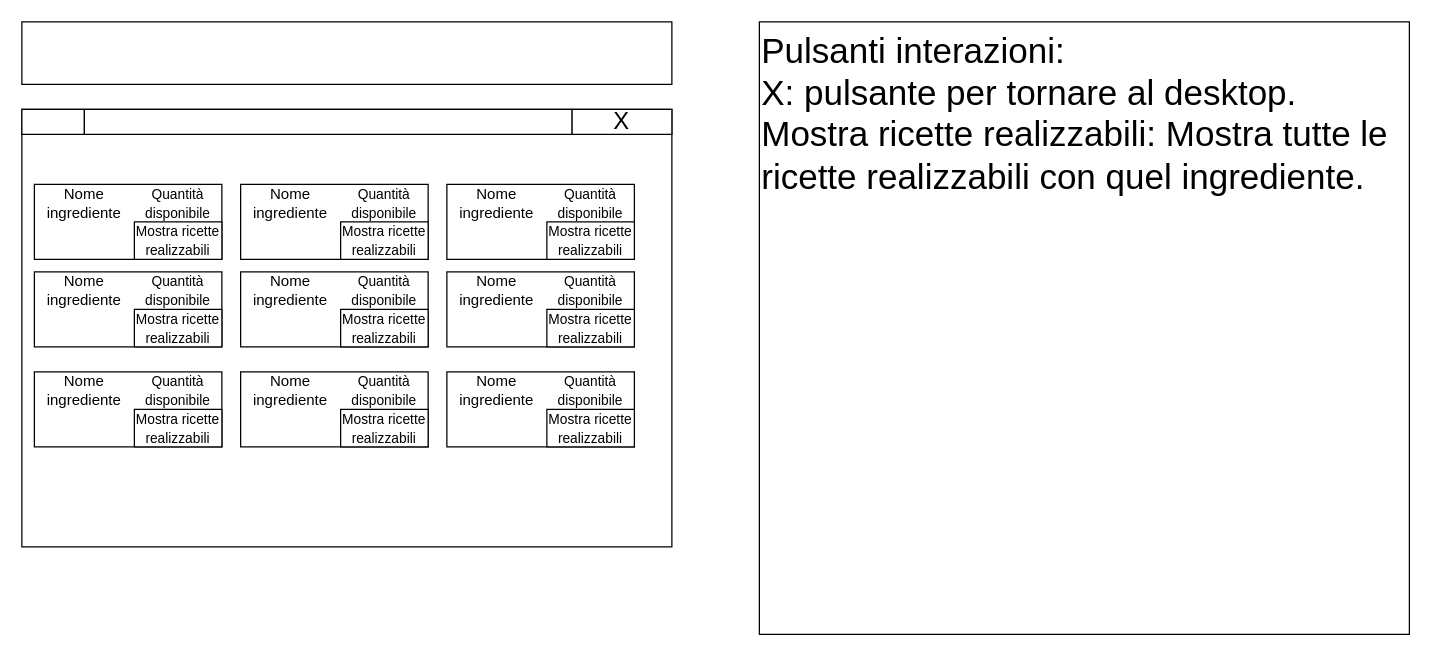
This 1431x656 diagram has some shape labels left out. The centre of each missing label's shape, as x and y in pixels:
Icona: the point at 52,121
Ingredienti in magazzino: the point at 346,52
